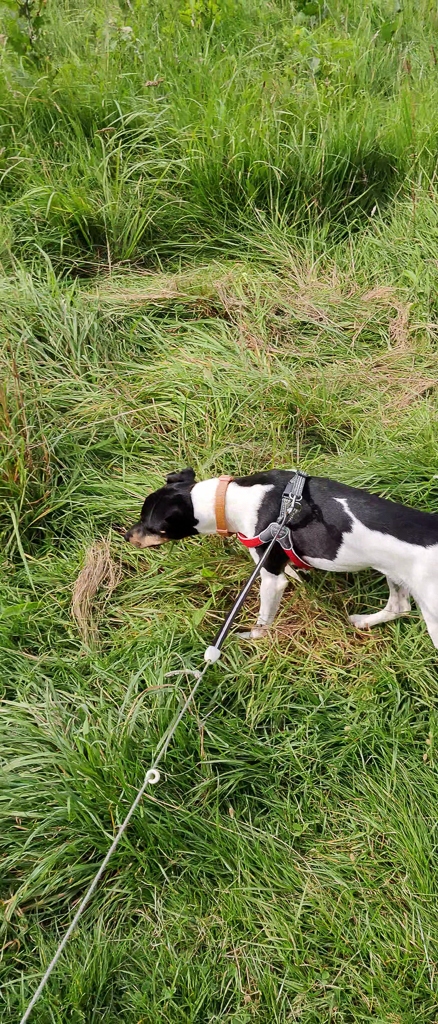Dog: (120, 460, 438, 666)
